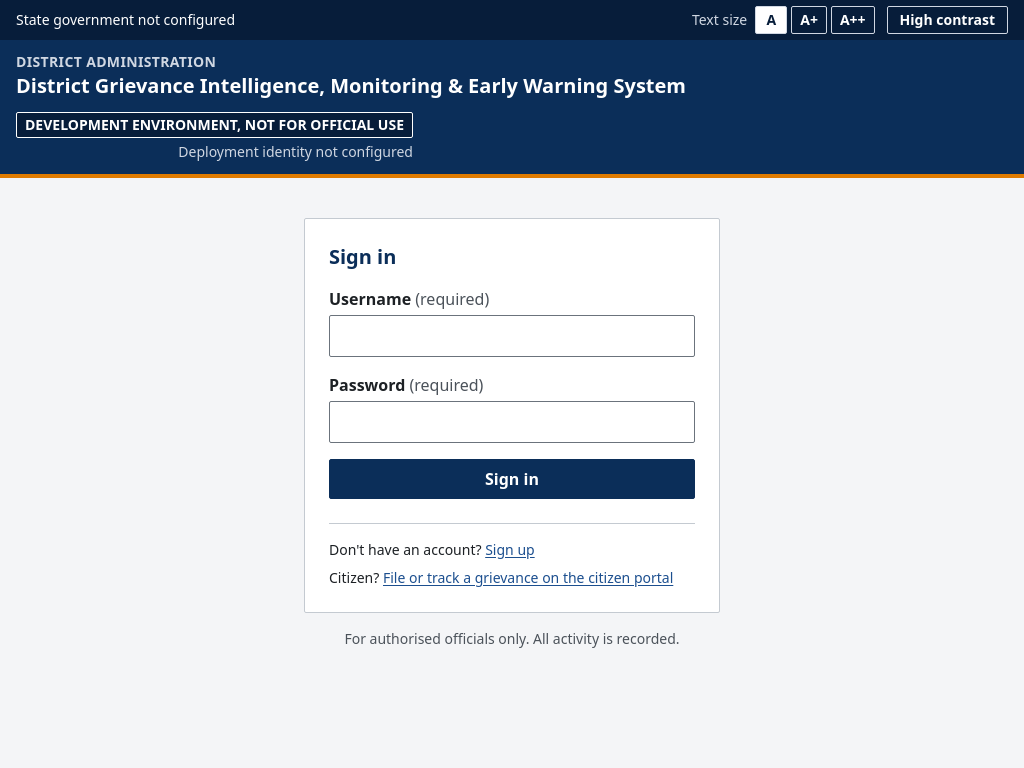
Scenario: Sign-in flow › moves to MFA verification and then to the requested page
Later steps or results of the test are not shown.
Type "dm" into the field labelled "Username (required)" at (512, 336), box [329,314,695,356]
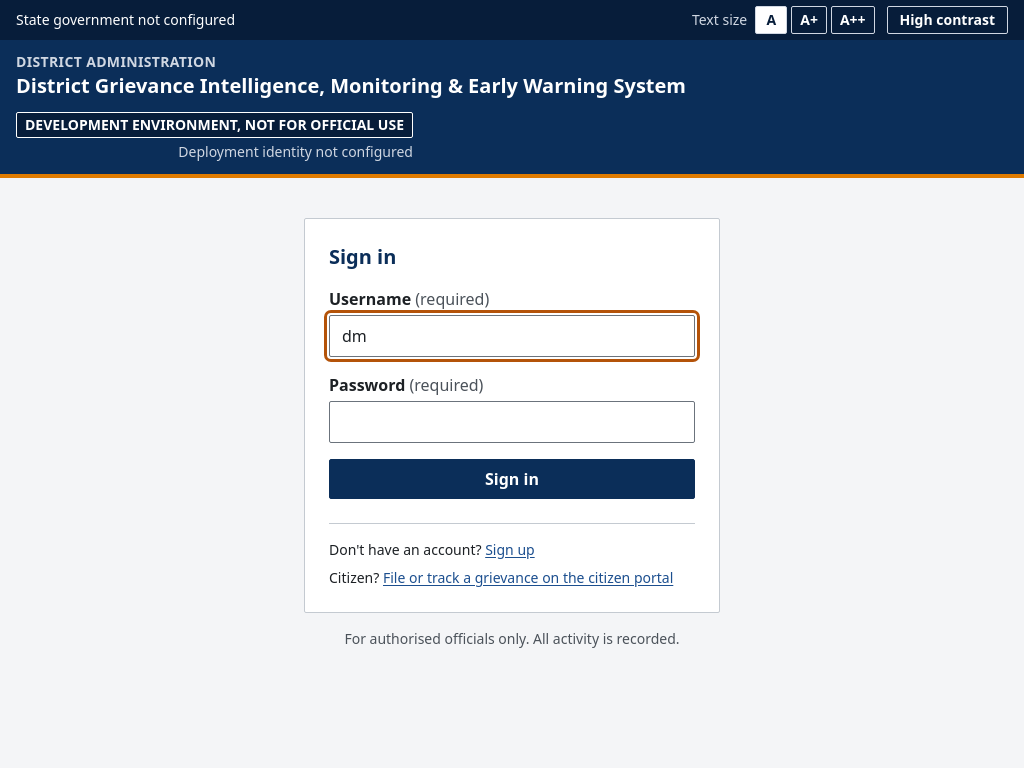
Type "pw" into the password field labelled "Password (required)" at (512, 422), box [329,400,695,442]
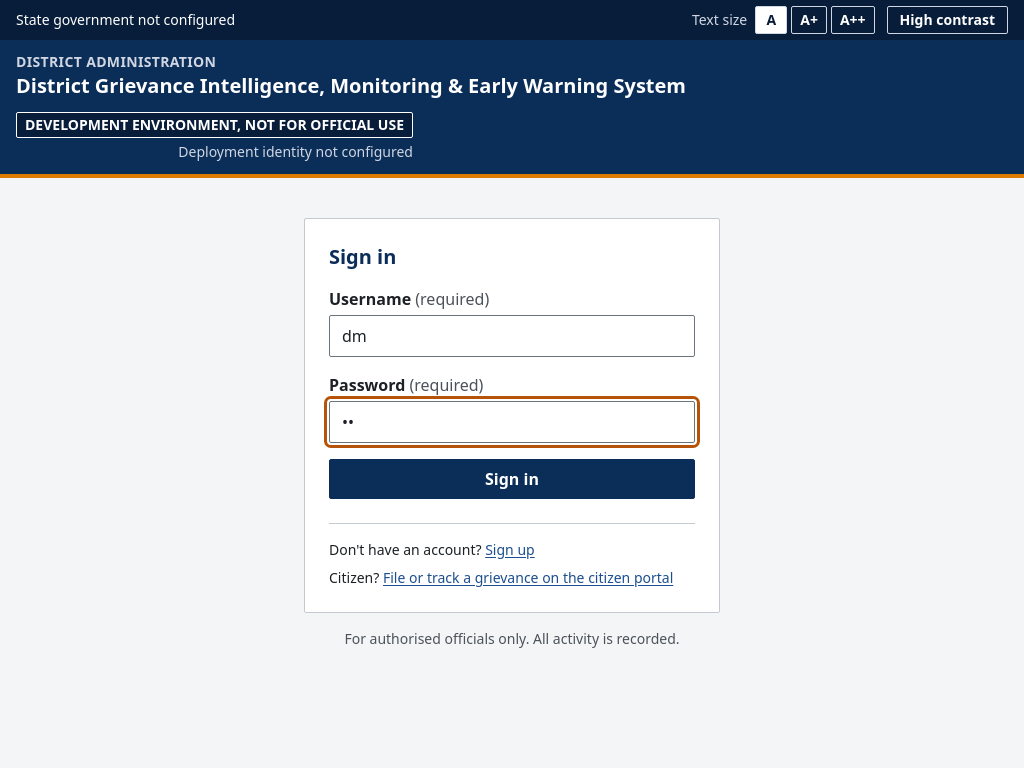
Click the button "Sign in" at (512, 478), box [329,458,695,498]
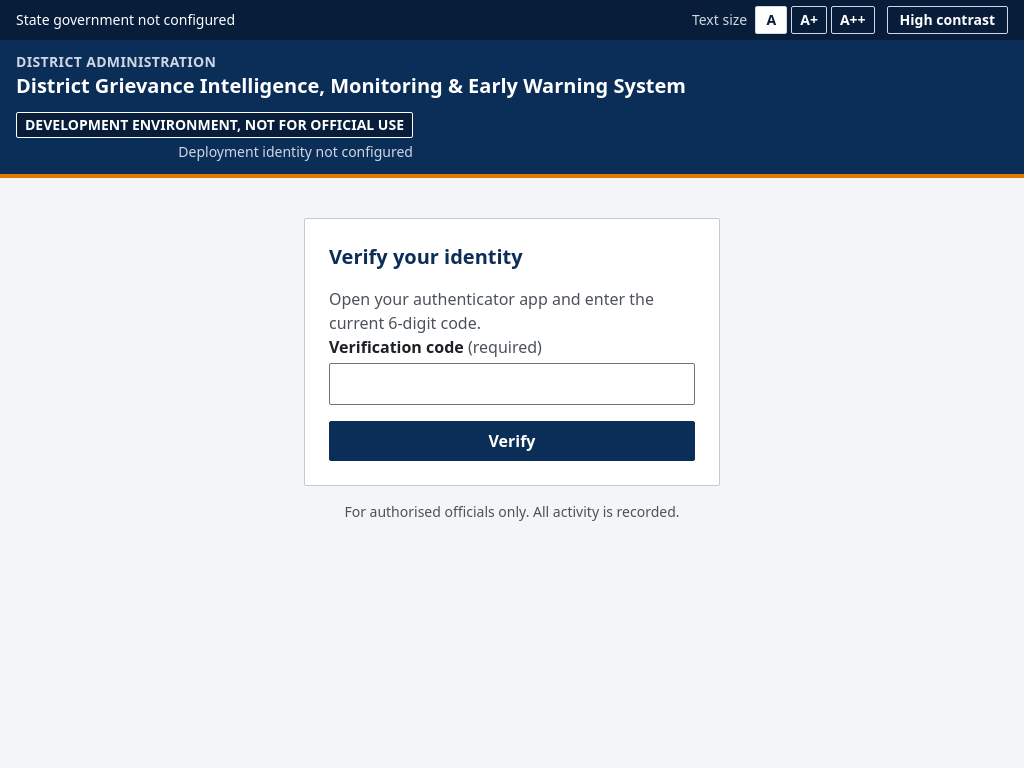
Now the heading "Verify your identity" is shown, box [329,242,523,270]
Type "12a3456" into the field labelled "Verification code (required)" at (512, 384), box [329,362,695,404]
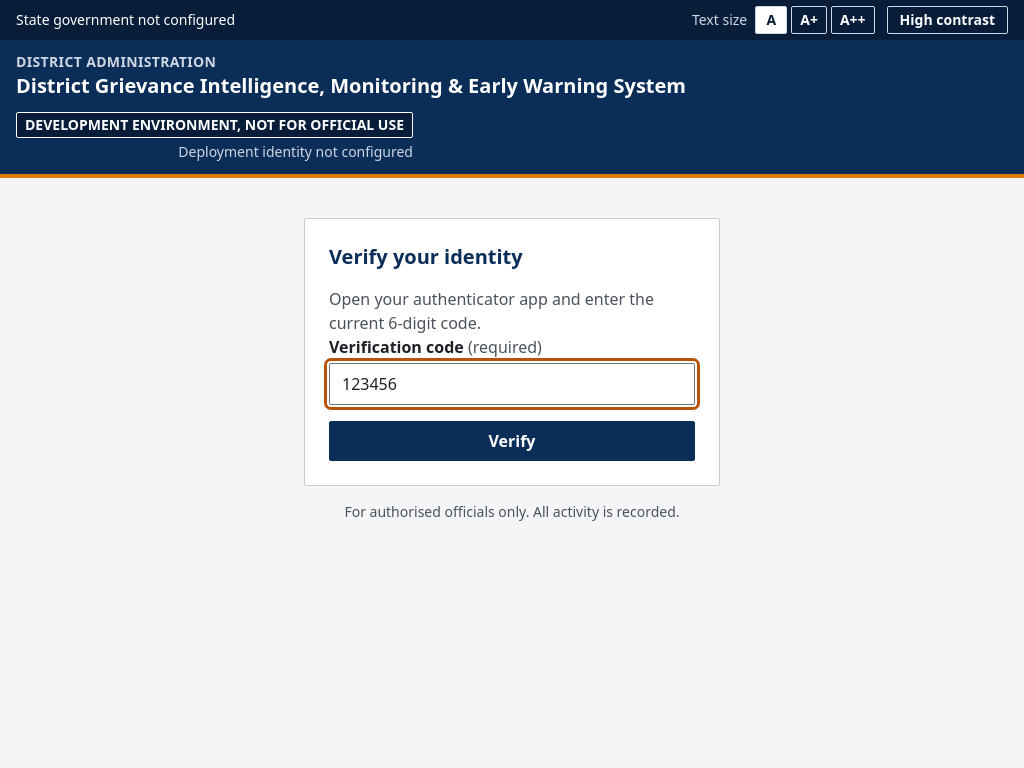
Now the field labelled "Verification code (required)" holds "123456", box [329,362,695,404]
